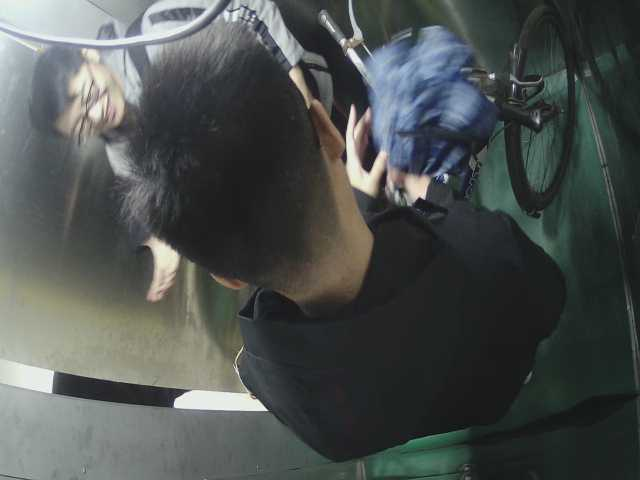bicycle: (307, 8, 594, 244)
person: (22, 18, 188, 157)
